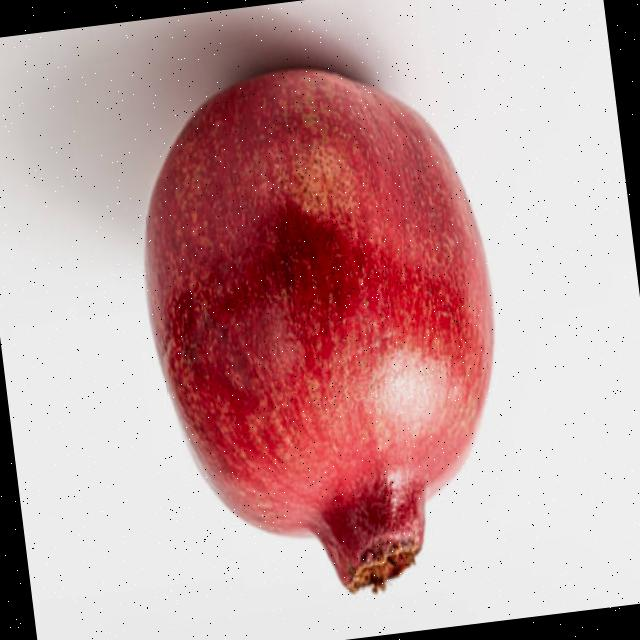Ripe: (117, 39, 530, 626)
